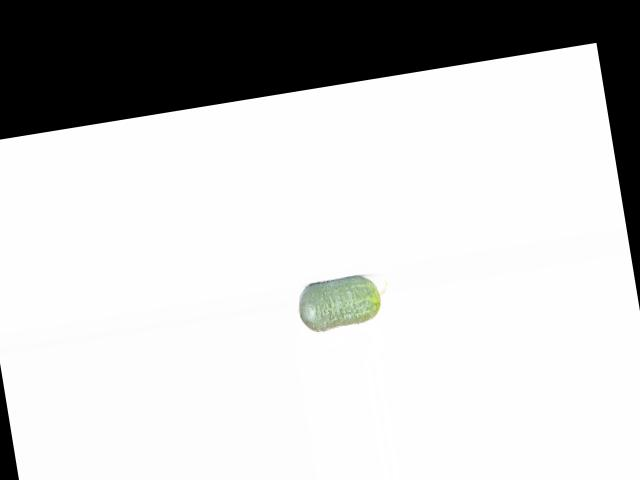cucumber: (295, 270, 393, 335)
